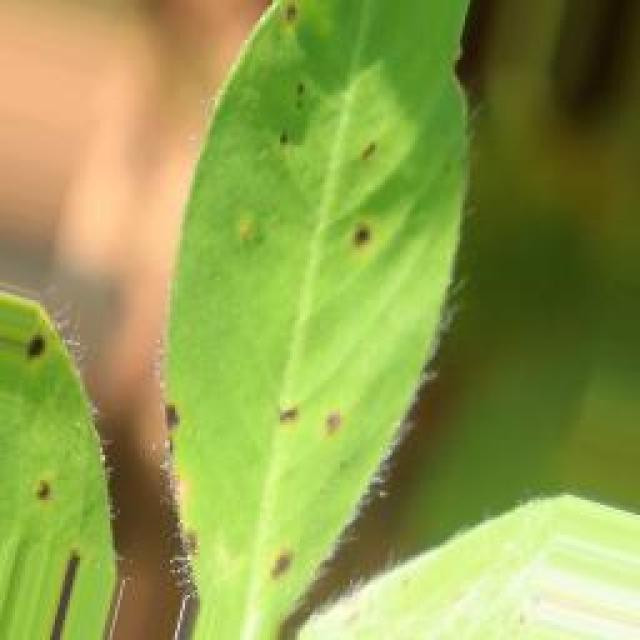Sigatoka: (266, 386, 356, 447), (220, 213, 287, 289), (228, 537, 310, 589), (157, 494, 217, 565), (14, 323, 73, 393), (148, 385, 199, 456), (255, 0, 320, 55), (336, 218, 387, 287), (25, 461, 79, 526), (334, 124, 396, 179), (278, 62, 332, 123), (268, 119, 320, 163)
